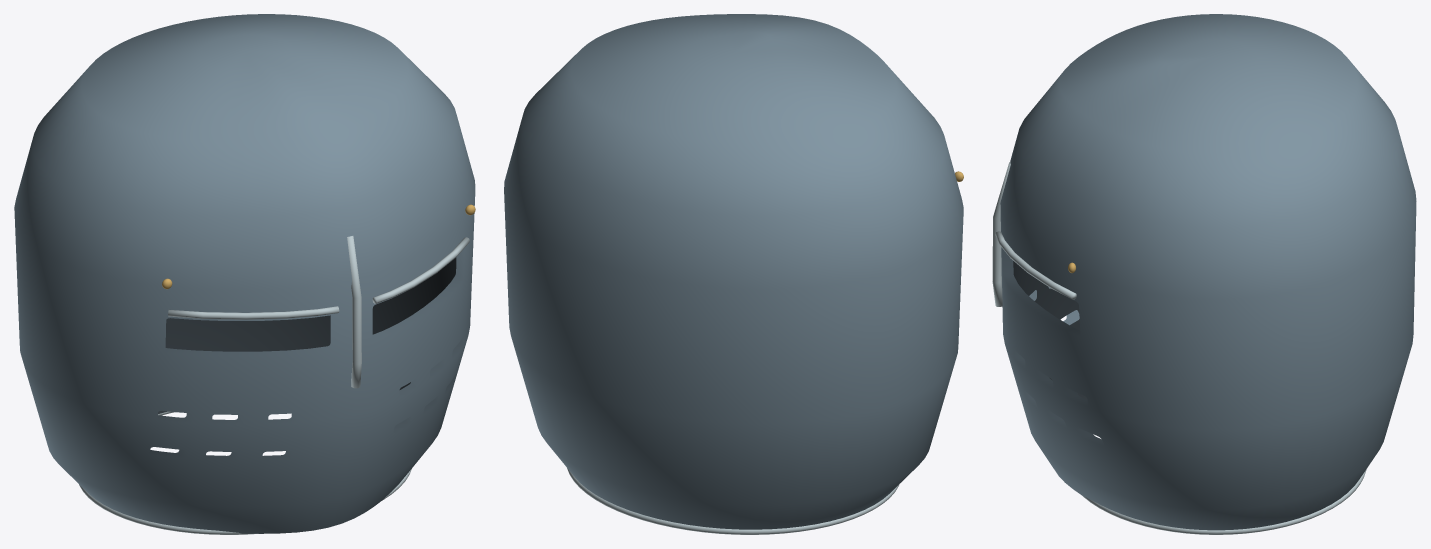
File: great-helm.glb
3 views of the same model, side by side, from view 1: azimuth 30°, elevation 25°; view 2: azimuth 150°, elevation 25°; view 3: azimuth 270°, elevation 25° (orthographic). The views are drawn at different scales.
Visible parts, largest first — view 1: Tapered closed forged shell, Forged nasal bridge, Visor brow edge, Thin turned neck edge, Visor brow edge.001; view 2: Tapered closed forged shell, Thin turned neck edge; view 3: Tapered closed forged shell, Thin turned neck edge, Forged nasal bridge, Visor brow edge.001.
Part boxes in pixels (left/top/right/bottom): Tapered closed forged shell: left=14, top=14, right=475, bottom=533; Forged nasal bridge: left=347, top=236, right=361, bottom=388; Visor brow edge: left=168, top=306, right=339, bottom=319; Thin turned neck edge: left=79, top=411, right=411, bottom=534; Visor brow edge.001: left=372, top=237, right=469, bottom=303; Tapered closed forged shell: left=504, top=14, right=963, bottom=529; Thin turned neck edge: left=567, top=468, right=899, bottom=534; Tapered closed forged shell: left=1000, top=14, right=1416, bottom=530; Thin turned neck edge: left=1083, top=469, right=1366, bottom=534; Forged nasal bridge: left=992, top=161, right=1010, bottom=306; Visor brow edge.001: left=995, top=231, right=1076, bottom=299.
Bounding box in the file's own units: 0.79 × 0.7637 × 0.72.
